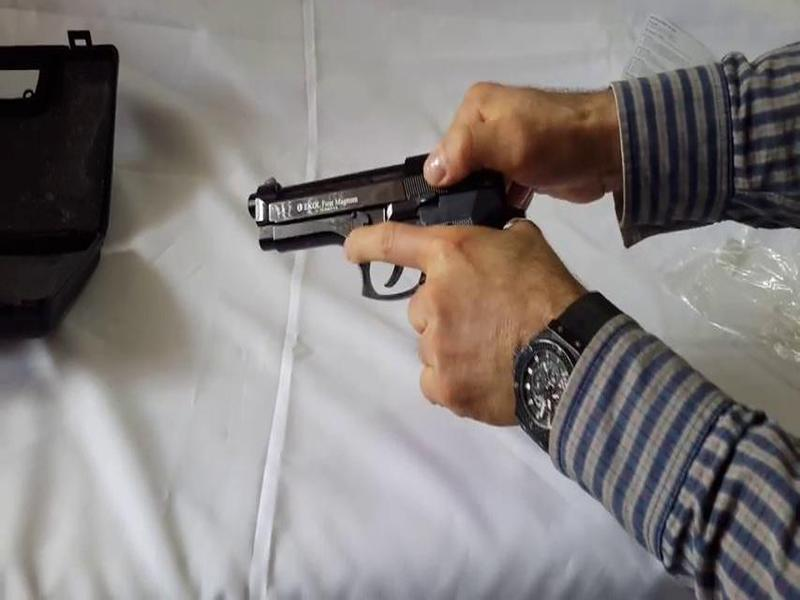Pistola: (241, 135, 514, 334)
